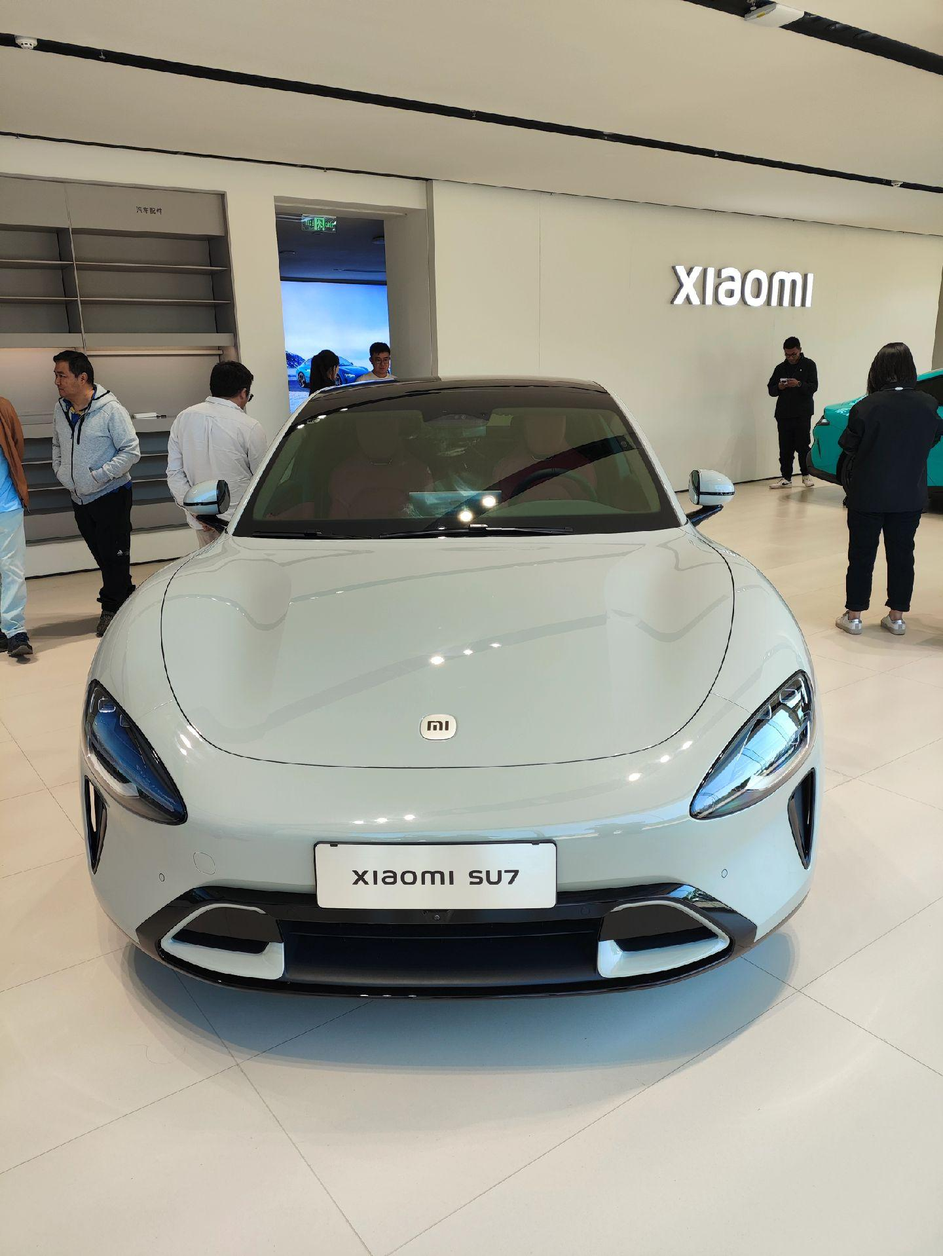su7: (64, 358, 814, 1008)
